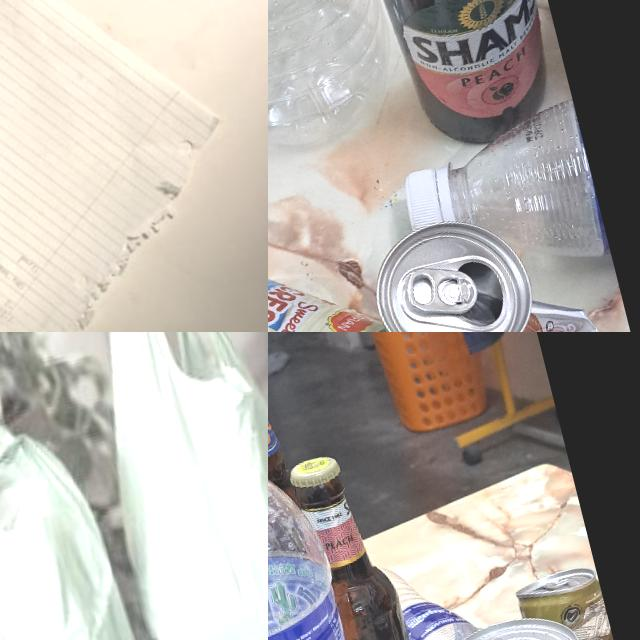aba de lata: (402, 256, 480, 324), (541, 574, 572, 590)
garrafa de vidro: (354, 0, 577, 159), (287, 446, 445, 640), (268, 332, 300, 522)
garrafa plástica: (434, 98, 612, 294), (268, 430, 415, 640), (268, 0, 407, 185), (374, 550, 495, 640)
lata: (360, 192, 622, 332), (268, 201, 461, 332), (512, 562, 624, 640)
papel: (0, 0, 268, 332)
sacola plástica: (37, 332, 268, 640), (0, 332, 198, 640)
tampa plástica: (398, 165, 456, 232)
